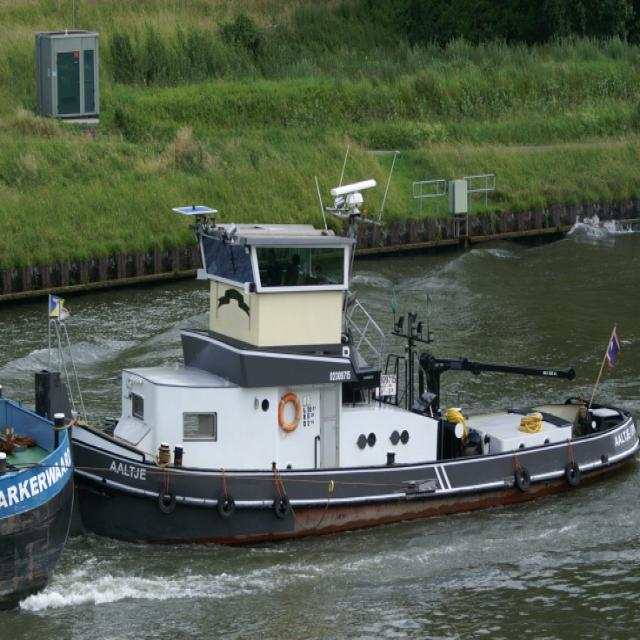tugboat: (33, 143, 640, 561)
